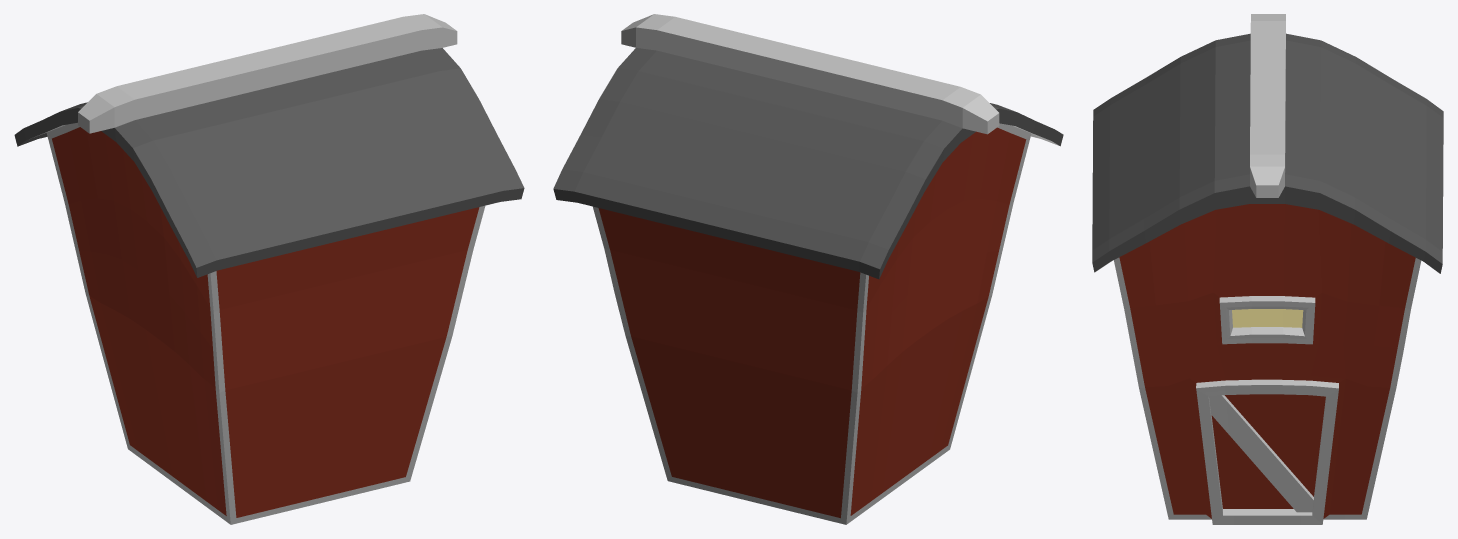
Rendered from celeiro.fbx.
3 renders of one model, left to right at view 1: azimuth 30°, elevation 25°; view 2: azimuth 150°, elevation 25°; view 3: azimuth 270°, elevation 25°, orthographic. The views are drawn at different scales.
Parts seen in each view (by area): view 1: Cube; view 2: Cube; view 3: Cube.
Boxes of the visible parts, x1,y1,x2,y2 form: Cube: (14, 14, 524, 524); Cube: (553, 14, 1063, 524); Cube: (1092, 14, 1443, 524).
Size of the model in its own units: 659 by 700 by 570.
